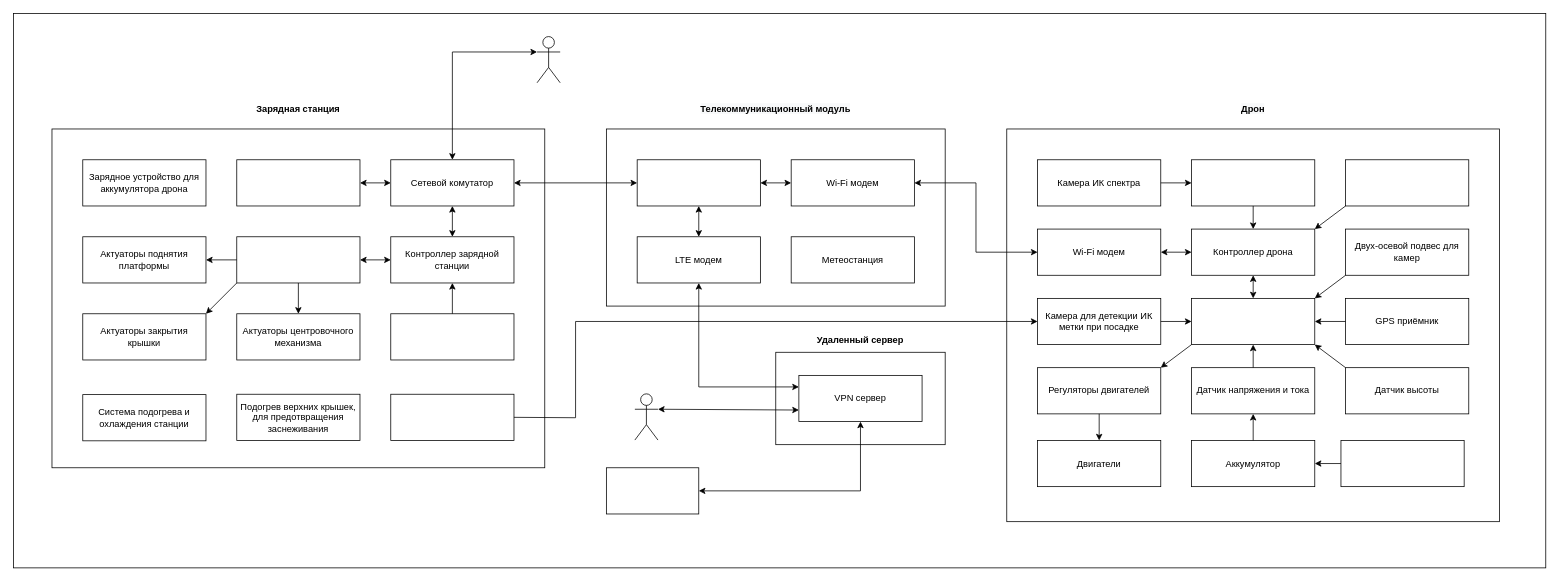
This 1559x581 diagram has some shape labels left out. The centre of each missing label's shape, as x and y in pixels:
"Actor 1" belongs at pixel 548 59.
"Actor 2" belongs at pixel 646 416.
"IR-Lock (инфракрасная метка для навигации при посадке)" belongs at pixel 452 416.
"Балансировщик заряда" belongs at pixel 1402 463.
"Датчики влажности и температуры" belongs at pixel 452 336.
"Драйвер управления зарядной станцией" belongs at pixel 298 259.
"Другой сегмент сети" belongs at pixel 652 490.
"Камера видимого спектра" belongs at pixel 1407 182.
"Контроллер телекоммуникационного модуля" belongs at pixel 698 182.
"Полетный контроллер" belongs at pixel 1253 321.
"Сервер видеоаналитики" belongs at pixel 298 182.
"Устройство видеозахвата" belongs at pixel 1253 182.
